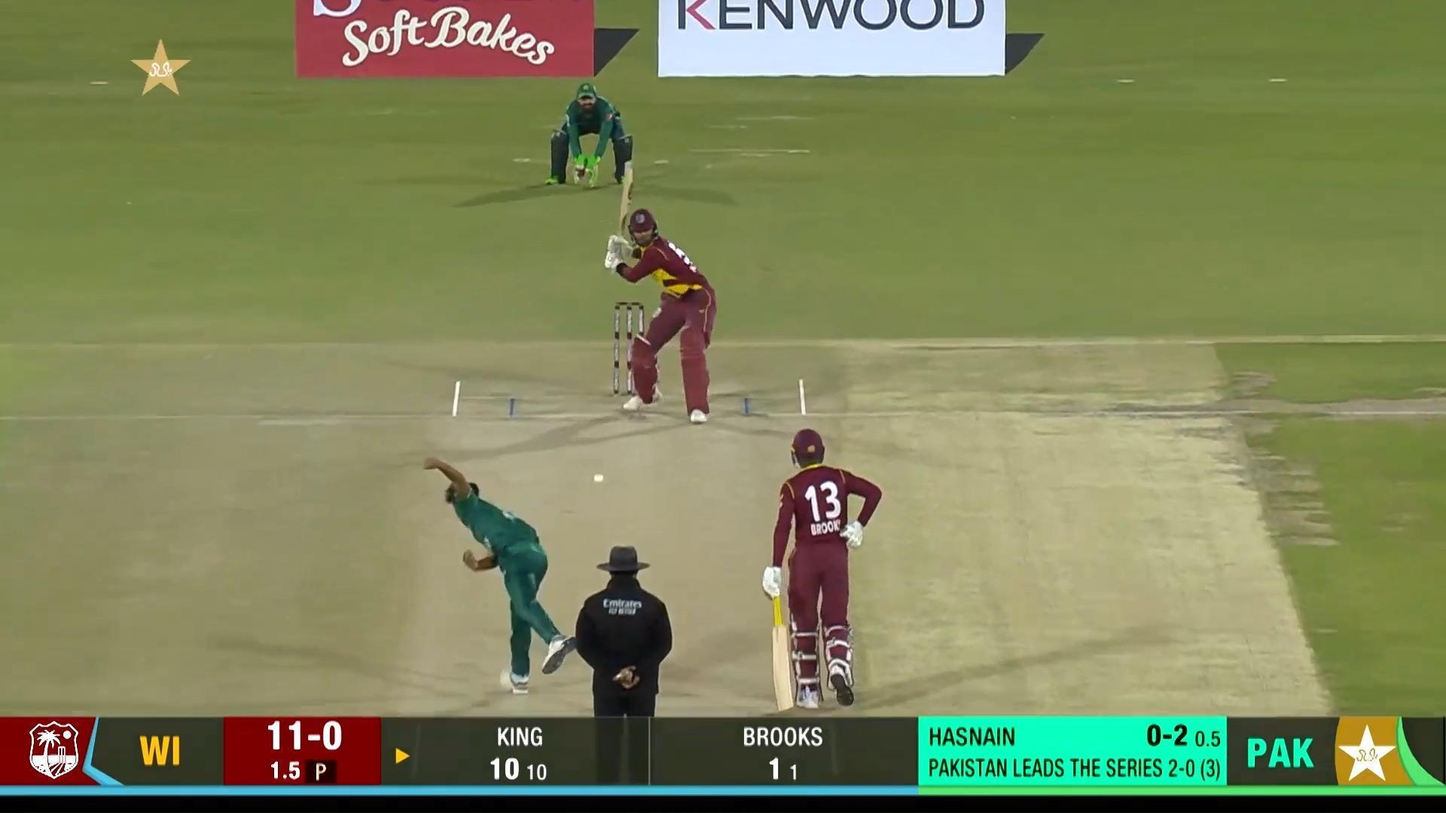BM 1: (604, 159, 718, 425)
BO: (420, 453, 578, 696)
